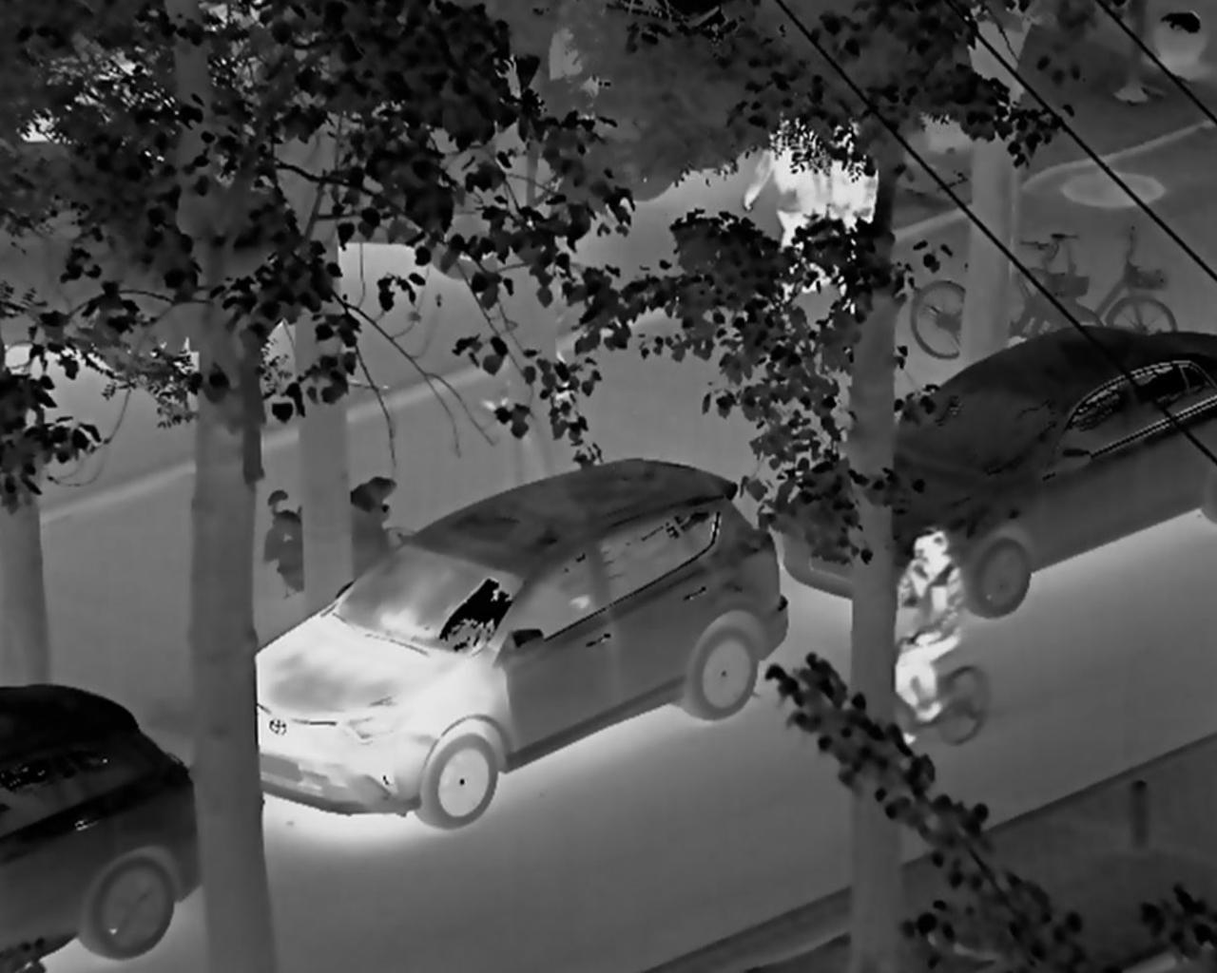person: (873, 522, 977, 724), (759, 102, 823, 318), (818, 116, 872, 316)
